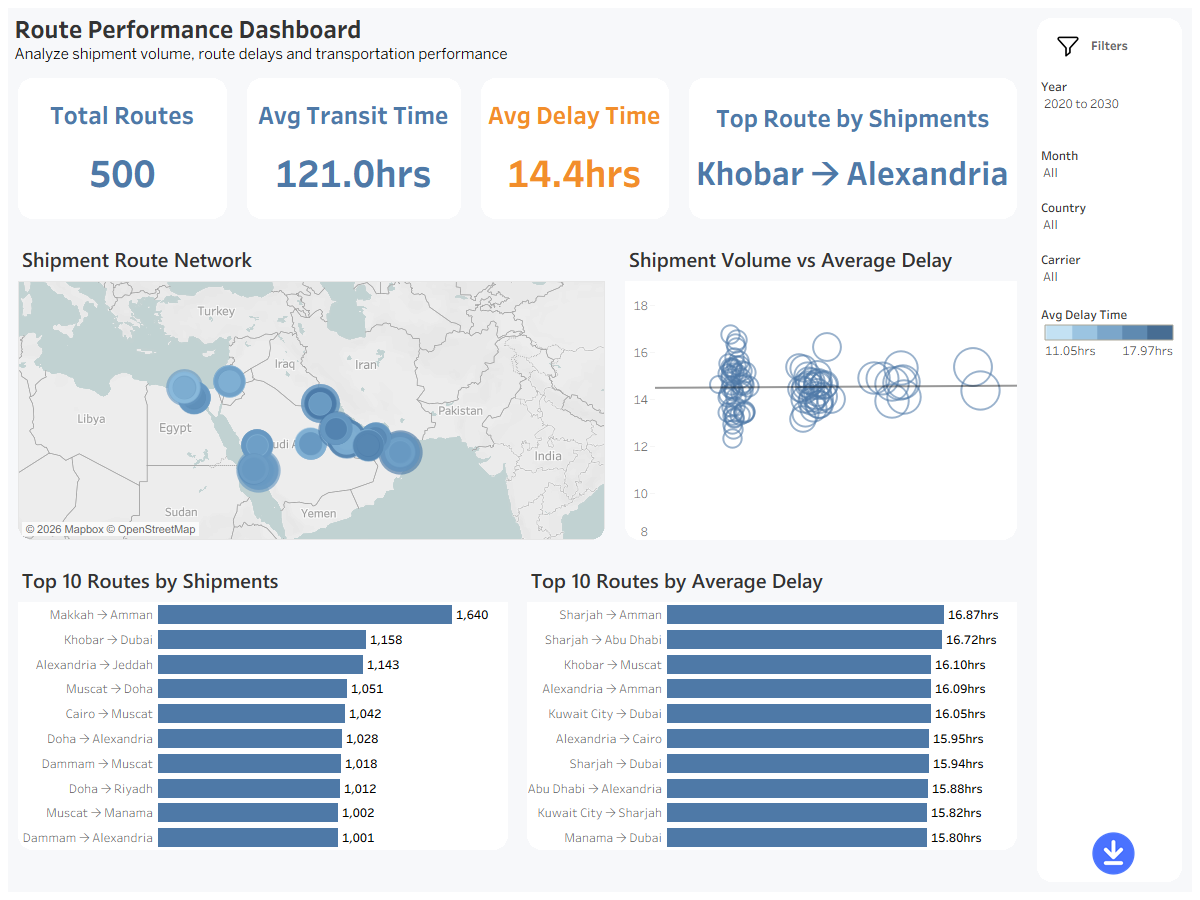

The page's visual inventory and layout, read from the dashboard file:
{"tool":"tableau","page":{"name":"Route Performance Dashboard","canvas":[1200,900],"ordinal":5},"visuals":[{"type":"title","box":[8,8,1019,60]},{"type":"text","box":[1037,18,145,55]},{"type":"image","param":"Image/filter.png","box":[1055,32,25,27]},{"type":"worksheet","title":"KPI - Total Routes","mark":"Automatic","box":[8,68,229,161]},{"type":"worksheet","title":"KPI - Avg Transit Time","mark":"Automatic","box":[237,68,234,161]},{"type":"worksheet","title":"KPI - Avg Delay Time","mark":"Automatic","box":[471,68,208,161]},{"type":"worksheet","title":"KPI - Top Route by Shipments","mark":"Automatic","box":[679,68,348,161]},{"type":"filter","title":"Shipment Volume vs Average Delay","param":"[federated.0jvln5y0i2vktg16s0ugy1m90pce].[none:year_number:qk]","box":[1037,73,145,69]},{"type":"filter","title":"Shipment Volume vs Average Delay","param":"[federated.0jvln5y0i2vktg16s0ugy1m90pce].[none:month_name:nk]","box":[1037,142,145,52]},{"type":"filter","title":"Shipment Volume vs Average Delay","param":"[federated.0jvln5y0i2vktg16s0ugy1m90pce].[none:country:nk]","box":[1037,194,145,52]},{"type":"worksheet","title":"Shipment Route Network","mark":"Automatic","box":[8,229,607,321]},{"type":"worksheet","title":"Shipment Volume vs Average Delay","mark":"Automatic","rows":["Calculation_1349135941672998"],"cols":["Calculation_1349135941881895"],"box":[615,229,412,321]},{"type":"filter","title":"Shipment Volume vs Average Delay","param":"[federated.0jvln5y0i2vktg16s0ugy1m90pce].[none:carrier_name:nk]","box":[1037,246,145,52]},{"type":"legend","title":"Shipment Route Network","param":"[federated.0jvln5y0i2vktg16s0ugy1m90pce].[usr:Calculation_1349135941672998:qk]","box":[1037,298,145,65]},{"type":"worksheet","title":"Top 10 Routes by Shipments","mark":"Automatic","rows":["Calculation_1349131463843841"],"cols":["shipment_id"],"box":[8,550,509.5,309.9]},{"type":"worksheet","title":"Top 10 Routes by Average Delay","mark":"Automatic","rows":["Calculation_1349131463843841"],"cols":["Calculation_1349135941672998"],"box":[517.5,550,509.5,309.9]},{"type":"dashboard-object","box":[1088,830,50,46]},{"type":"blank","box":[8,859.9,1019,32]}]}

Visuals, with their boxes in screenshot pixels (x1, y1, x2, y2), scaled from the page's 1200x900 canvas onto the 1200x900 screenshot:
title: pyautogui.locateOnScreen(8, 8, 1027, 68)
text: pyautogui.locateOnScreen(1037, 18, 1182, 73)
image: pyautogui.locateOnScreen(1055, 32, 1080, 59)
"KPI - Total Routes" worksheet: pyautogui.locateOnScreen(8, 68, 237, 229)
"KPI - Avg Transit Time" worksheet: pyautogui.locateOnScreen(237, 68, 471, 229)
"KPI - Avg Delay Time" worksheet: pyautogui.locateOnScreen(471, 68, 679, 229)
"KPI - Top Route by Shipments" worksheet: pyautogui.locateOnScreen(679, 68, 1027, 229)
"Shipment Volume vs Average Delay" filter: pyautogui.locateOnScreen(1037, 73, 1182, 142)
"Shipment Volume vs Average Delay" filter: pyautogui.locateOnScreen(1037, 142, 1182, 194)
"Shipment Volume vs Average Delay" filter: pyautogui.locateOnScreen(1037, 194, 1182, 246)
"Shipment Route Network" worksheet: pyautogui.locateOnScreen(8, 229, 615, 550)
"Shipment Volume vs Average Delay" worksheet: pyautogui.locateOnScreen(615, 229, 1027, 550)
"Shipment Volume vs Average Delay" filter: pyautogui.locateOnScreen(1037, 246, 1182, 298)
"Shipment Route Network" legend: pyautogui.locateOnScreen(1037, 298, 1182, 363)
"Top 10 Routes by Shipments" worksheet: pyautogui.locateOnScreen(8, 550, 518, 860)
"Top 10 Routes by Average Delay" worksheet: pyautogui.locateOnScreen(518, 550, 1027, 860)
dashboard-object: pyautogui.locateOnScreen(1088, 830, 1138, 876)
blank: pyautogui.locateOnScreen(8, 860, 1027, 892)
